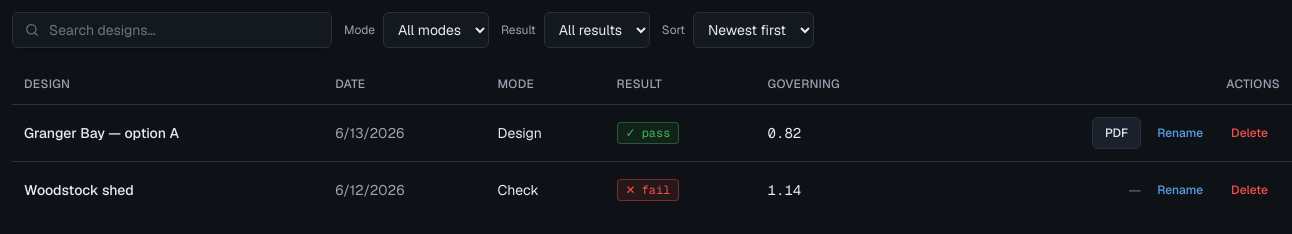
Test: DesignsManager › searches the displayed label in real time
Expected: the text "Granger Bay — option A" is shown, 12,104 -> 323,161
Expected: the text "Woodstock shed" is shown, 12,161 -> 323,218
In the search field: (172, 30) 12,12 -> 332,48, type "woodstock"
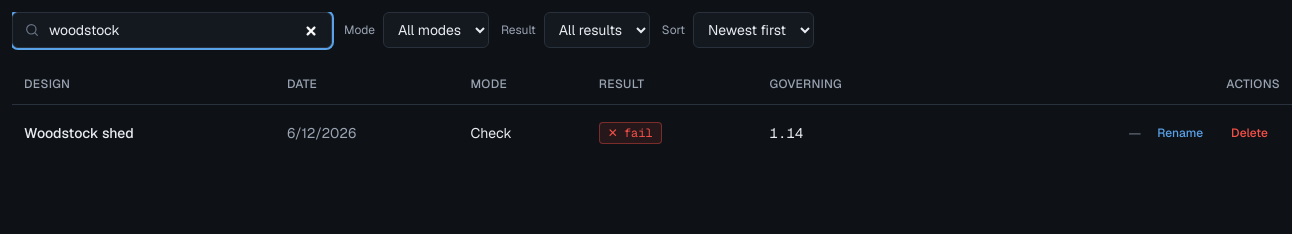
Expected: the text "Woodstock shed" is shown, 12,104 -> 275,160
Result: the link "Granger Bay — option A" is gone
